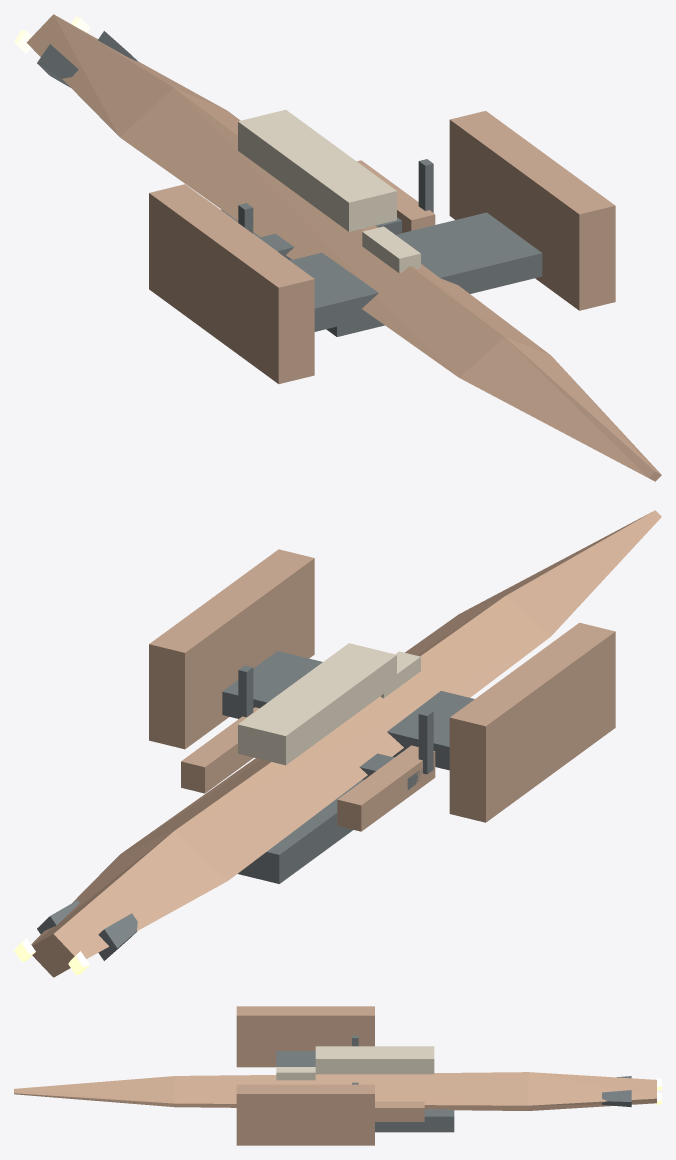
The picture shows the model from 3 angles, top to bottom: view 1: azimuth 30°, elevation 25°; view 2: azimuth 150°, elevation 25°; view 3: azimuth 270°, elevation 25°; orthographic projection. The views are drawn at different scales.
Size of the model in its own units: 4.54 by 1.75 by 14.15.
